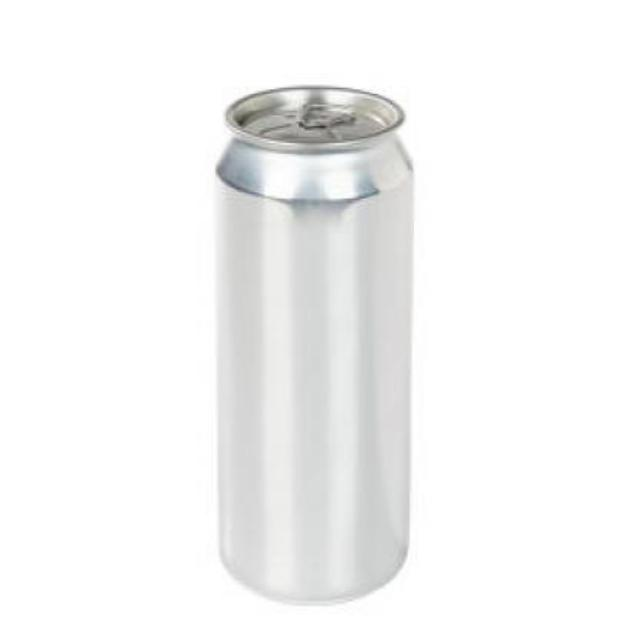metal: (215, 85, 409, 598)
